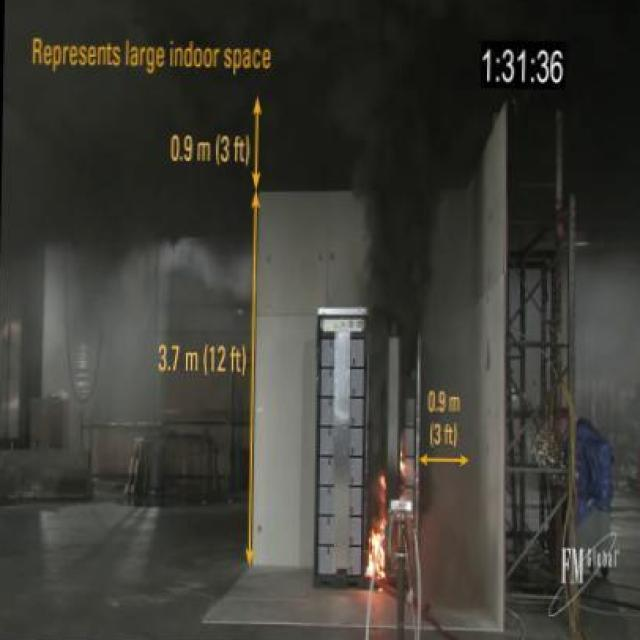fire: (337, 39, 448, 298)
smoke: (366, 470, 391, 584), (398, 440, 411, 480)
